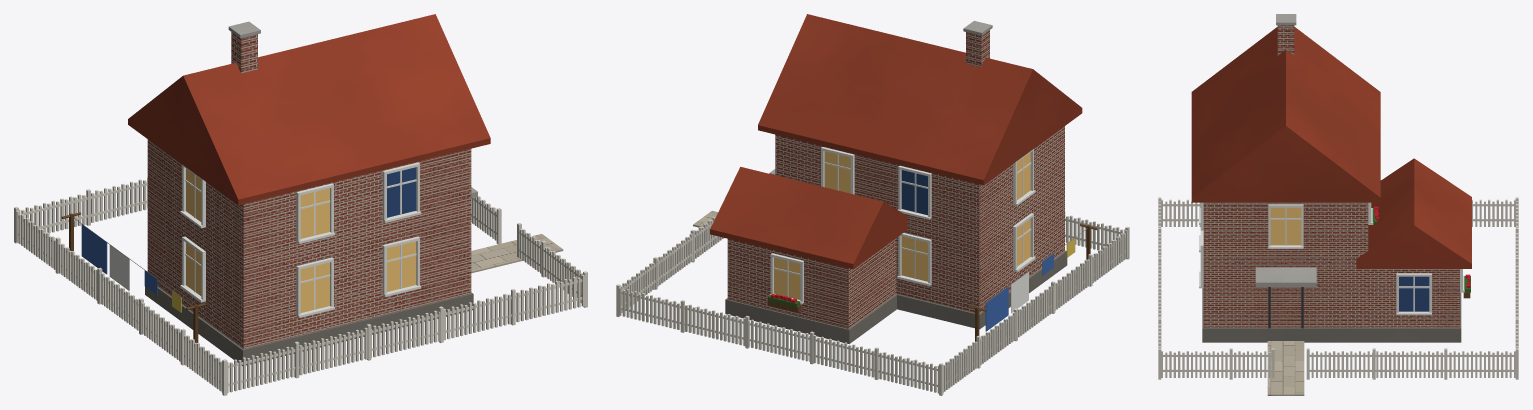
File: dum_1a_domy_2.glb
The picture shows the model from 3 angles, left to right: view 1: azimuth 30°, elevation 25°; view 2: azimuth 150°, elevation 25°; view 3: azimuth 270°, elevation 25°; orthographic projection. The views are drawn at different scales.
Parts seen in each view (by area): view 1: dum, noc; view 2: dum, noc; view 3: dum, noc.
Part boxes in pixels (x1=…): dum: x1=14, y1=14, x2=587, y2=395; noc: x1=186, y1=169, x2=416, y2=312; dum: x1=616, y1=14, x2=1129, y2=395; noc: x1=774, y1=151, x2=1030, y2=299; dum: x1=1158, y1=14, x2=1518, y2=395; noc: x1=1270, y1=207, x2=1301, y2=245.
Size of the model in its own units: 13.07 by 8.98 by 11.79.
1 material, 1 textured.
